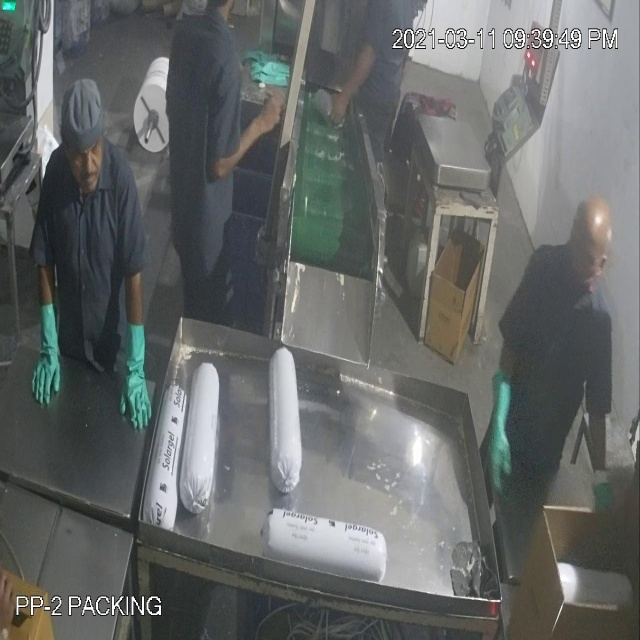Guantes: (480, 361, 518, 507), (26, 296, 70, 417), (117, 320, 155, 437)
Sin_guantes: (206, 89, 289, 185), (328, 33, 383, 135)
